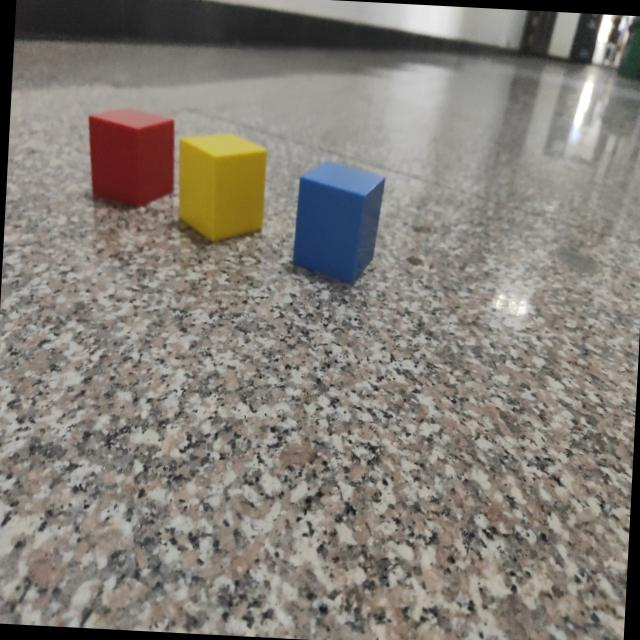blue: (292, 162, 387, 286)
red: (87, 109, 177, 210)
yellow: (177, 135, 268, 244)
